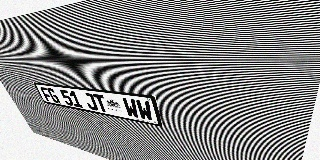plate: (33, 82, 162, 127)
